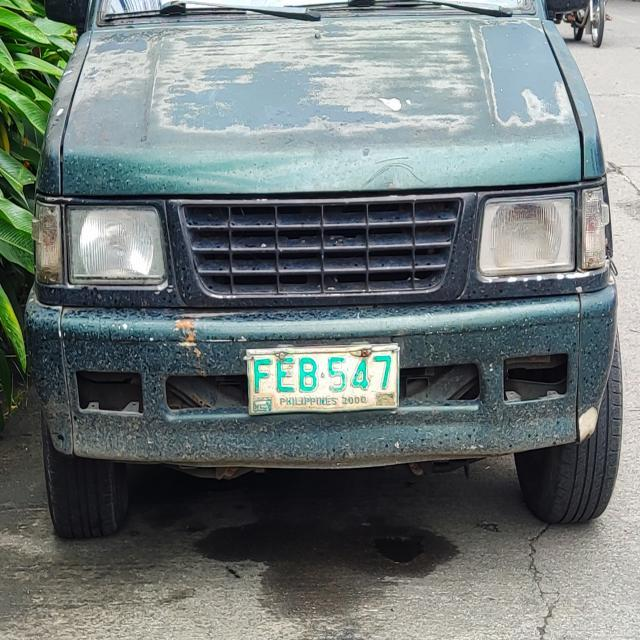LicensePlate: (241, 334, 416, 421)
